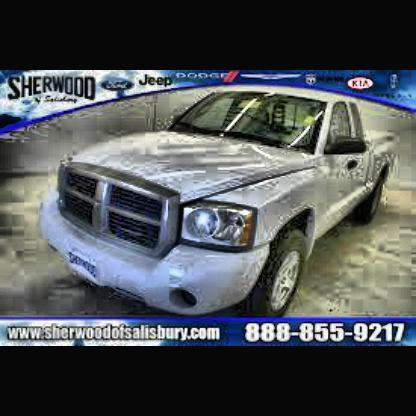Dodge Dakota Club Cab 2007: (39, 87, 403, 319)
